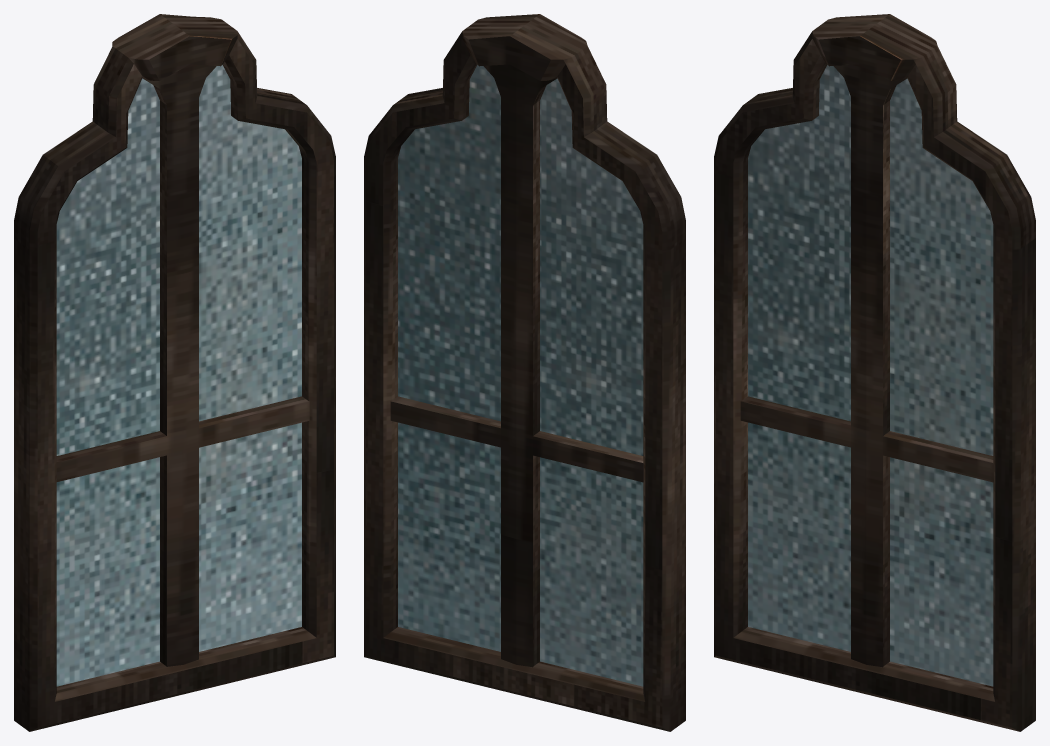
The model's file is Ventana.fbx.
The picture shows the model from 3 angles, left to right: view 1: azimuth 30°, elevation 25°; view 2: azimuth 150°, elevation 25°; view 3: azimuth 330°, elevation 25°; orthographic projection.
Parts seen in each view (by area): view 1: pCube8; view 2: pCube8; view 3: pCube8.
Boxes of the visible parts, x1,y1,x2,y2 form: pCube8: (14,14,335,731); pCube8: (364,14,685,731); pCube8: (714,14,1035,731).
Bounding box in the file's own units: 102 × 211 × 17.47.
